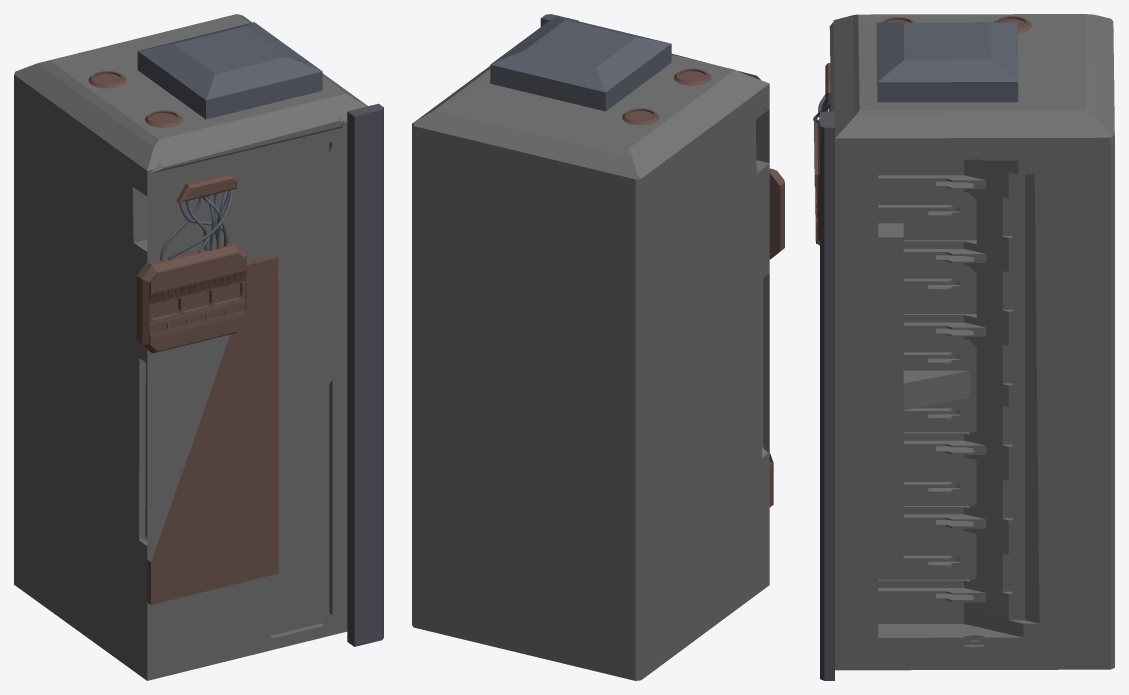
The model's file is 前景大方盒烟囱_003.fbx.
The picture shows the model from 3 angles, left to right: view 1: azimuth 30°, elevation 25°; view 2: azimuth 150°, elevation 25°; view 3: azimuth 270°, elevation 25°; orthographic projection. The views are drawn at different scales.
Parts seen in each view (by area): view 1: 前景大方盒烟囱.003; view 2: 前景大方盒烟囱.003; view 3: 前景大方盒烟囱.003.
Boxes of the visible parts, <box> form: 前景大方盒烟囱.003: <box>14,14,383,680</box>; 前景大方盒烟囱.003: <box>412,14,784,680</box>; 前景大方盒烟囱.003: <box>813,14,1114,680</box>.
Size of the model in its own units: 1.43 by 3.19 by 1.48.
